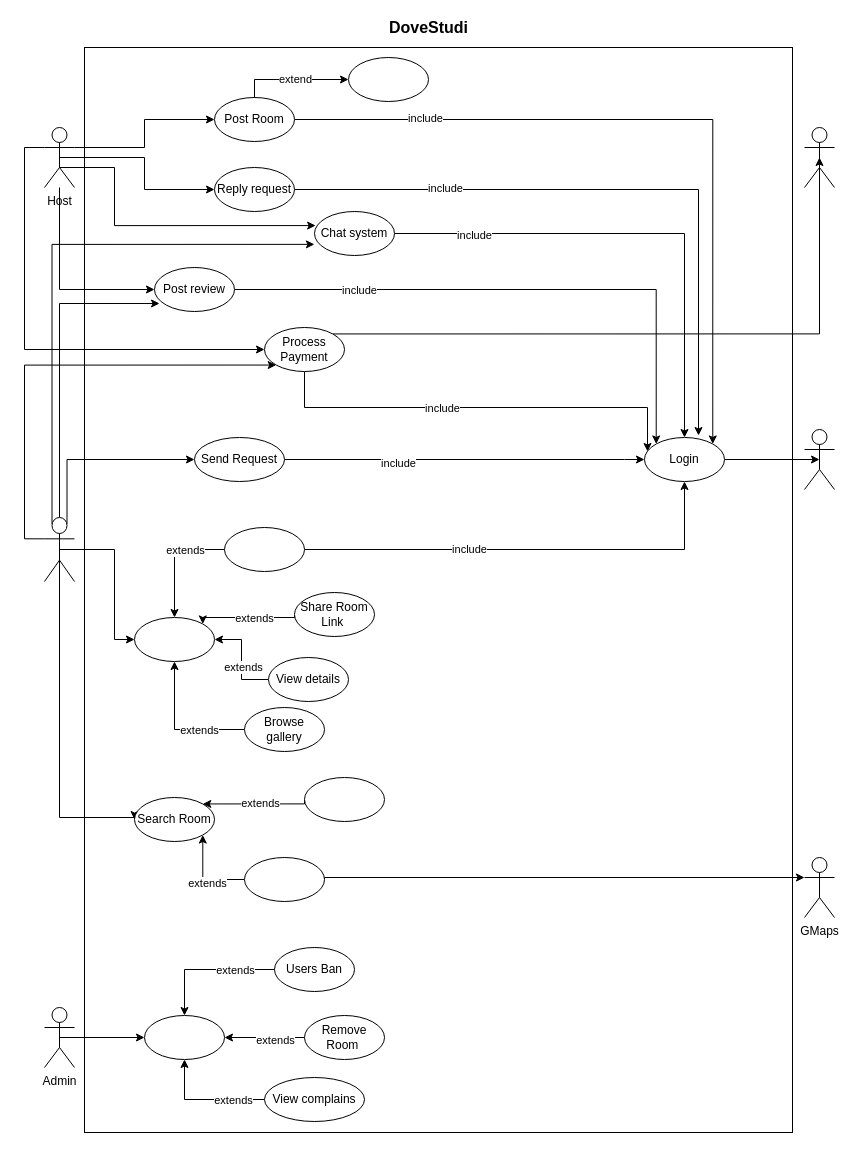
Image size: 858x1150. Some labels were removed from this diagram. The shapes that lost their labels are listed below. From the top down, each one's box as (x1, y1, x2, y2) in pixels, then its label:
(348, 56, 428, 102): Add Photo
(804, 126, 834, 188): PayPal
(804, 428, 834, 490): Google Account
(44, 516, 74, 582): Guest
(224, 526, 304, 572): Add to Favourites
(134, 616, 214, 662): Vedi annuncio
(304, 776, 384, 822): Set Filter
(244, 856, 324, 902): View Map
(144, 1014, 224, 1060): SuperLogin
